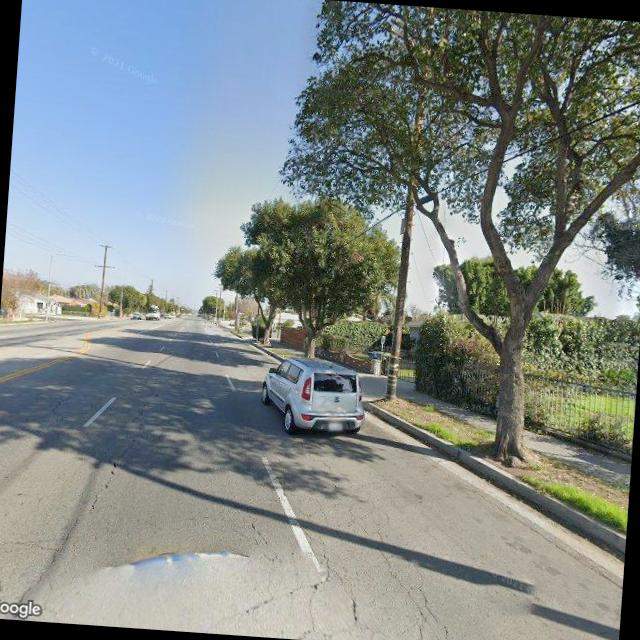crack: (263, 494, 446, 640)
pothole: (84, 383, 150, 524)
